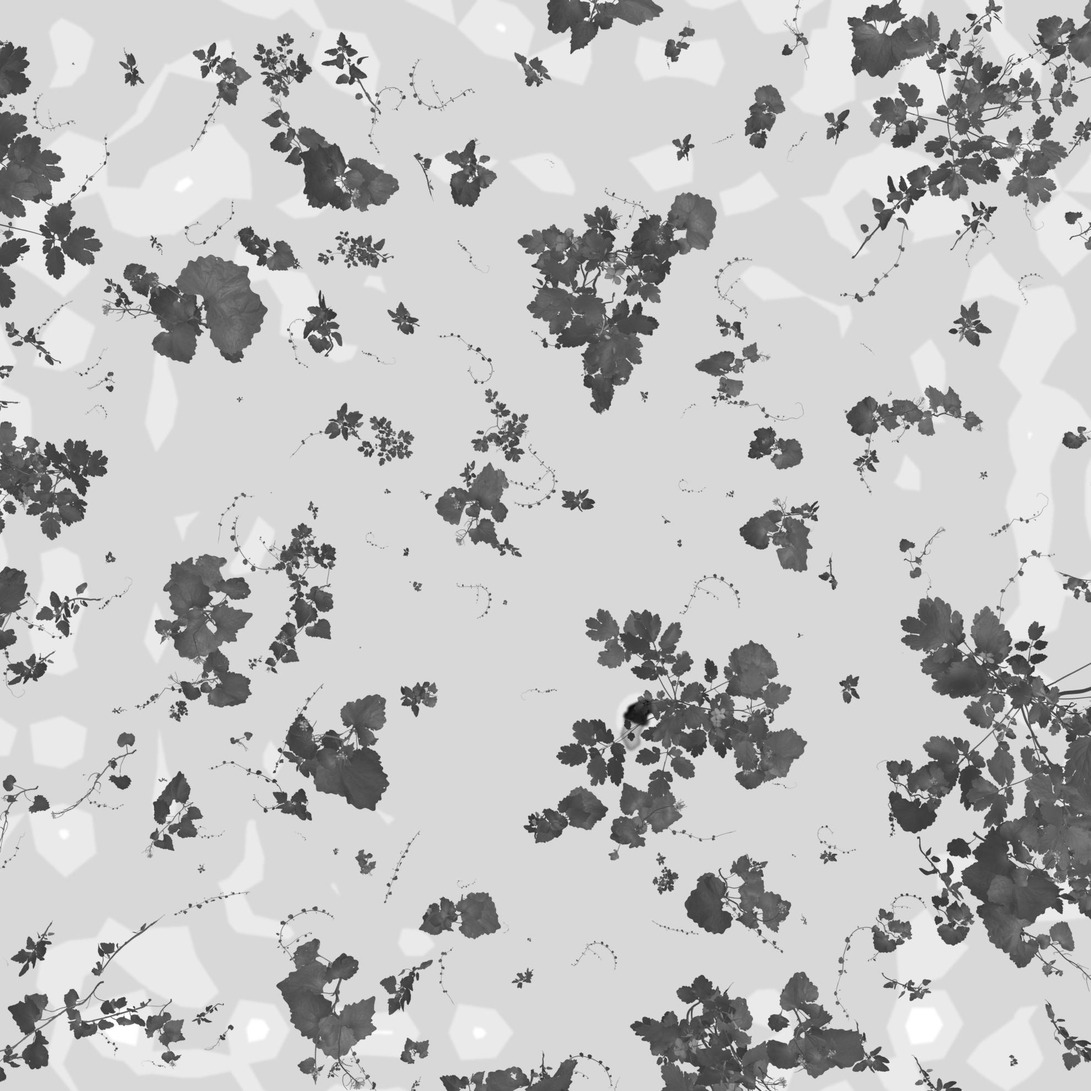landmine: (620, 698, 658, 750)
